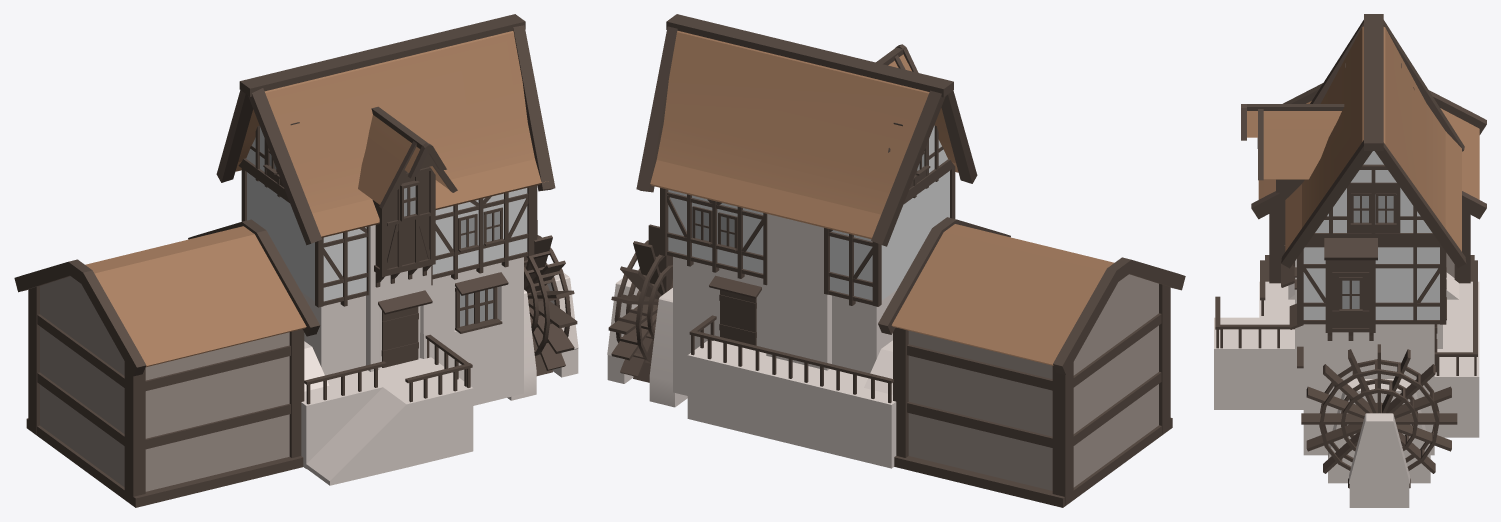
File: SM_Mulino.fbx
The picture shows the model from 3 angles, left to right: view 1: azimuth 30°, elevation 25°; view 2: azimuth 150°, elevation 25°; view 3: azimuth 270°, elevation 25°; orthographic projection. The views are drawn at different scales.
Parts seen in each view (by area): view 1: SM_Legno, SM_Tetto, SM_Mattoni, SM_Mattoni2, SM_Muro, SM_Legno_RuotaMulino, SM_Finestre; view 2: SM_Tetto, SM_Legno, SM_Mattoni, SM_Mattoni2, SM_Muro, SM_Legno_RuotaMulino, SM_Finestre; view 3: SM_Legno, SM_Mattoni, SM_Tetto, SM_Legno_RuotaMulino, SM_Muro, SM_Finestre.
Part boxes in pixels (x1,y1,x2,y2): SM_Legno: (14, 14, 555, 507); SM_Tetto: (85, 31, 548, 367); SM_Mattoni: (301, 225, 578, 485); SM_Mattoni2: (40, 276, 289, 491); SM_Muro: (246, 127, 527, 301); SM_Legno_RuotaMulino: (524, 220, 577, 375); SM_Finestre: (269, 153, 499, 326); SM_Tetto: (650, 31, 1114, 365); SM_Legno: (636, 14, 1185, 507); SM_Mattoni: (607, 214, 896, 468); SM_Mattoni2: (908, 274, 1158, 490); SM_Muro: (668, 125, 949, 300); SM_Legno_RuotaMulino: (608, 224, 672, 382); SM_Finestre: (695, 154, 924, 247); SM_Legno: (1215, 14, 1486, 375); SM_Mattoni: (1214, 259, 1479, 507); SM_Tetto: (1247, 26, 1479, 251); SM_Legno_RuotaMulino: (1301, 344, 1457, 488); SM_Muro: (1303, 151, 1439, 319); SM_Finestre: (1342, 194, 1393, 308).
Bounding box in the file's own units: 19.45 × 13.5 × 9.71.
